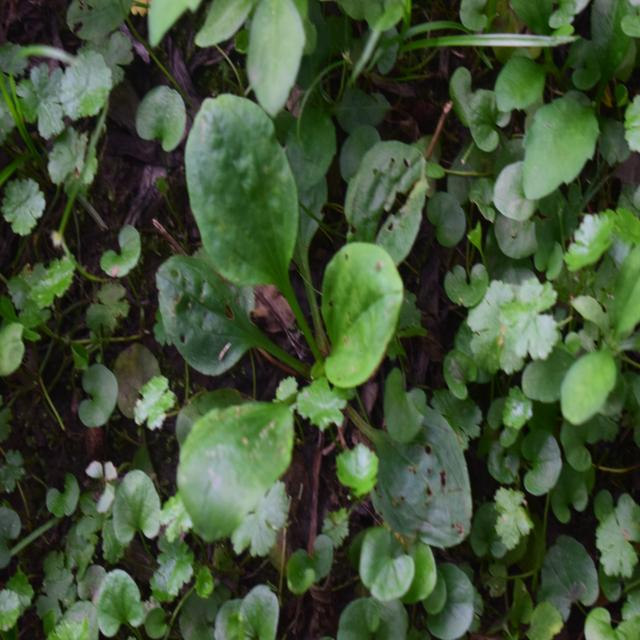plantain: (160, 80, 468, 519)
